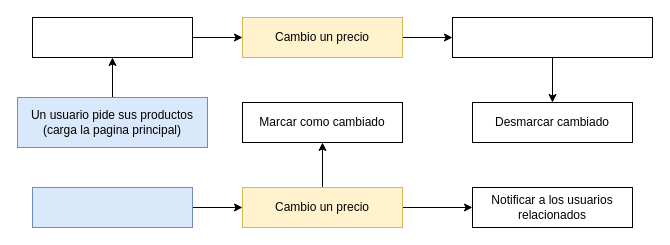
Some shapes in this 670 by 245 pixel diagram are drawn without their labels. The shapes that lost their labels are listed below. From the top down, each one's centre as x and y in pixels, then its label:
At point (112, 37): "Chequear precios de productos relacionados".
At point (552, 37): "Enviar datos especificando los productos que cambiaron".
At point (112, 207): "Chequeo pasivo".
